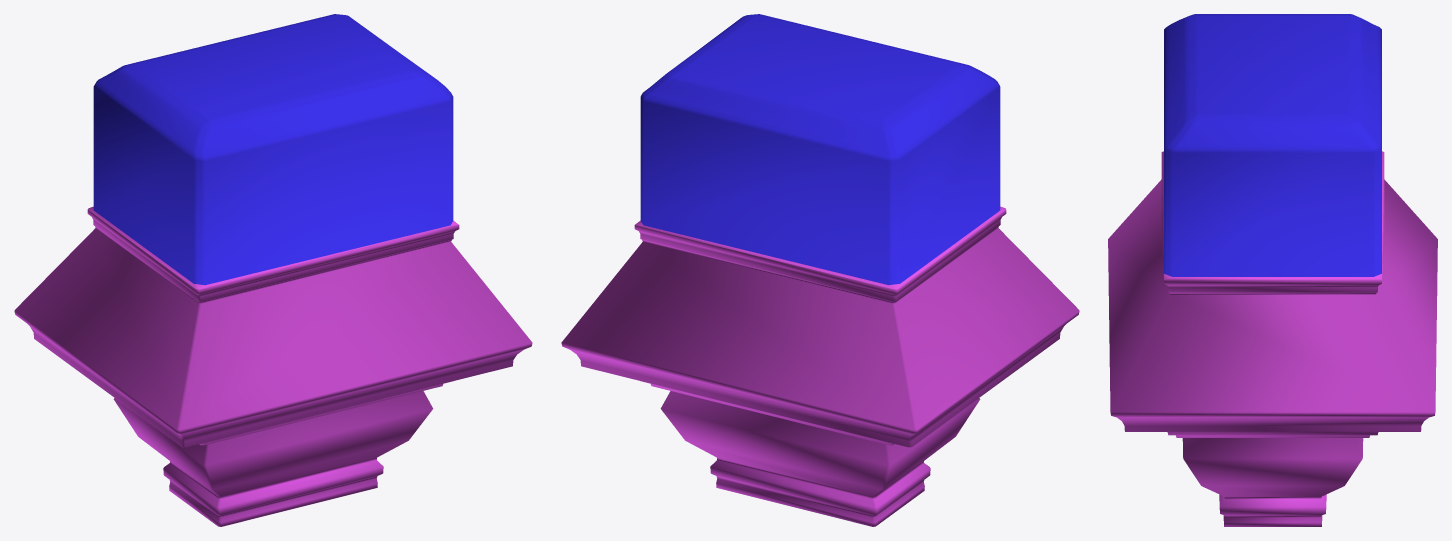
Rendered from table_short.fbx.
The picture shows the model from 3 angles, left to right: view 1: azimuth 30°, elevation 25°; view 2: azimuth 150°, elevation 25°; view 3: azimuth 270°, elevation 25°; orthographic projection.
Parts seen in each view (by area): view 1: table_short; view 2: table_short; view 3: table_short.
Boxes of the visible parts, bbox=[...] form: table_short: bbox=[14, 14, 532, 526]; table_short: bbox=[561, 14, 1079, 526]; table_short: bbox=[1108, 14, 1437, 526].
Bounding box in the file's own units: 251 × 285 × 201.
